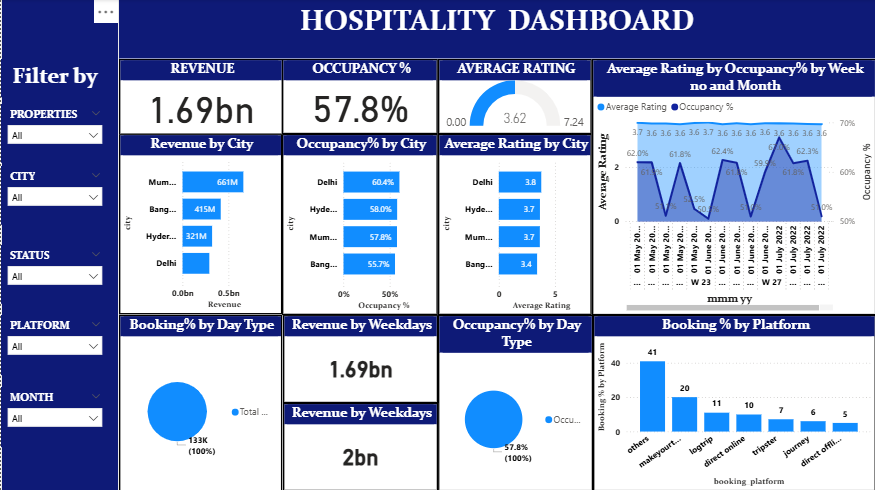

What the dashboard file says about the page in this screenshot:
{"tool":"powerbi","page":{"name":"Page 1","canvas":[1280,720],"ordinal":0},"visuals":[{"type":"shape","box":[0,0,173,720.6],"z":0},{"type":"textbox","box":[0,87.8,158,55.6],"z":1000},{"type":"slicer","fields":{"Values":["dim_rooms.room_class"]},"box":[0,153.7,158,86.3],"z":2000},{"type":"slicer","fields":{"Values":["dim_hotels.city"]},"box":[0,244.4,158,86.3],"z":3000},{"type":"slicer","fields":{"Values":["fact_bookings.booking_status"]},"box":[0,360,158,86.3],"z":4000},{"type":"slicer","fields":{"Values":["fact_bookings.booking_platform"]},"box":[0,462.4,158,87.8],"z":5000},{"type":"slicer","fields":{"Values":["dim_date.mmm yy"]},"box":[0,567.8,158,87.8],"z":6000},{"type":"card","title":"Revenue by Weekdays","fields":{"Values":["Key_Measures.Revenue"]},"box":[412.7,462.4,226.8,128.8],"z":7000},{"type":"card","title":"OCCUPANCY %","fields":{"Values":["Key_Measures.Occupancy %"]},"box":[411.2,87.8,228.3,109.8],"z":8000},{"type":"gauge","title":"AVERAGE RATING","fields":{"Y":["Key_Measures.Average Rating"]},"box":[639.5,87.8,225.4,109.8],"z":9000},{"type":"textbox","box":[173,0,1107,87.3],"z":10000},{"type":"clusteredBarChart","title":"Revenue by City","fields":{"Y":["Key_Measures.Revenue"],"Category":["dim_hotels.city"]},"box":[173,198.2,238.5,263.7],"z":11000},{"type":"clusteredBarChart","title":"Occupancy% by City","fields":{"Category":["dim_hotels.city"],"Y":["Key_Measures.Occupancy %"]},"box":[411.2,197.6,228.3,264.9],"z":12000},{"type":"clusteredBarChart","title":"Average Rating by City","fields":{"Category":["dim_hotels.city"],"Y":["Key_Measures.Average Rating"]},"box":[639.5,197.6,225.4,264.9],"z":13000},{"type":"areaChart","title":"Average Rating by Occupancy% by Week no and Month","fields":{"Y2":["Key_Measures.Occupancy %"],"Category":["dim_date.week no","dim_date.mmm yy.Variation.Date Hierarchy.Month"],"Y":["Key_Measures.Average Rating"]},"box":[864.9,87.8,415.6,374.6],"z":14000},{"type":"pieChart","title":"Booking% by Day Type","fields":{"Y":["Key_Measures.Total Bookings"]},"box":[173,461.9,238.5,258.7],"z":15000},{"type":"pieChart","title":"Occupancy% by Day Type","fields":{"Y":["Key_Measures.Occupancy %"]},"box":[639.5,462.4,226.8,257.6],"z":16000},{"type":"card","title":"REVENUE","fields":{"Values":["Key_Measures.Revenue"]},"box":[173,87.3,240.2,110.9],"z":17000},{"type":"card","title":"Revenue by Weekdays","fields":{"Values":["Key_Measures.Revenue"]},"box":[412.7,591.2,226.8,128.8],"z":18000},{"type":"clusteredColumnChart","title":"Booking % by Platform","fields":{"Y":["Key_Measures.Booking % by Platform"],"Category":["fact_bookings.booking_platform"]},"box":[866.3,462.4,414.1,257.6],"z":19000}]}

Visuals, with their boxes in screenshot pixels (x1, y1, x2, y2), scaled from the page's 1280x720 canvas onto the 875x490 screenshot:
shape: [0,0,118,489]
textbox: [0,60,108,98]
slicer - dim_rooms.room_class: [0,105,108,163]
slicer - dim_hotels.city: [0,166,108,225]
slicer - fact_bookings.booking_status: [0,245,108,304]
slicer - fact_bookings.booking_platform: [0,315,108,374]
slicer - dim_date.mmm yy: [0,386,108,446]
"Revenue by Weekdays" card: [282,315,437,402]
"OCCUPANCY %" card: [281,60,437,134]
"AVERAGE RATING" gauge: [437,60,591,134]
textbox: [118,0,874,59]
"Revenue by City" clusteredBarChart: [118,135,281,314]
"Occupancy% by City" clusteredBarChart: [281,134,437,315]
"Average Rating by City" clusteredBarChart: [437,134,591,315]
"Average Rating by Occupancy% by Week no and Month" areaChart: [591,60,874,315]
"Booking% by Day Type" pieChart: [118,314,281,489]
"Occupancy% by Day Type" pieChart: [437,315,592,489]
"REVENUE" card: [118,59,282,135]
"Revenue by Weekdays" card: [282,402,437,489]
"Booking % by Platform" clusteredColumnChart: [592,315,874,489]
